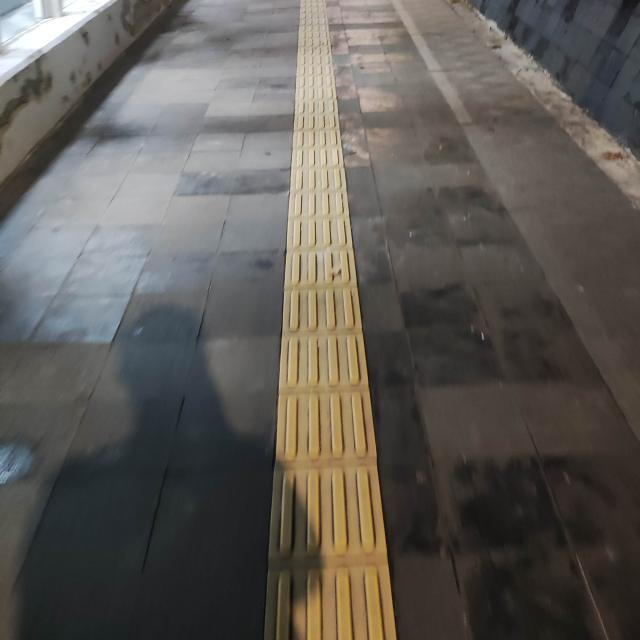lurus: (274, 46, 380, 640)
